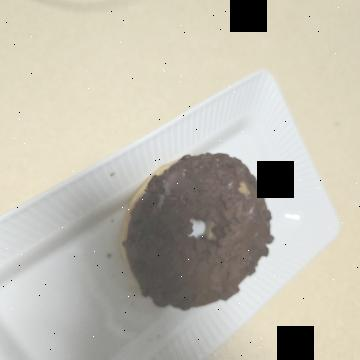doughnut: (144, 83, 330, 251)
